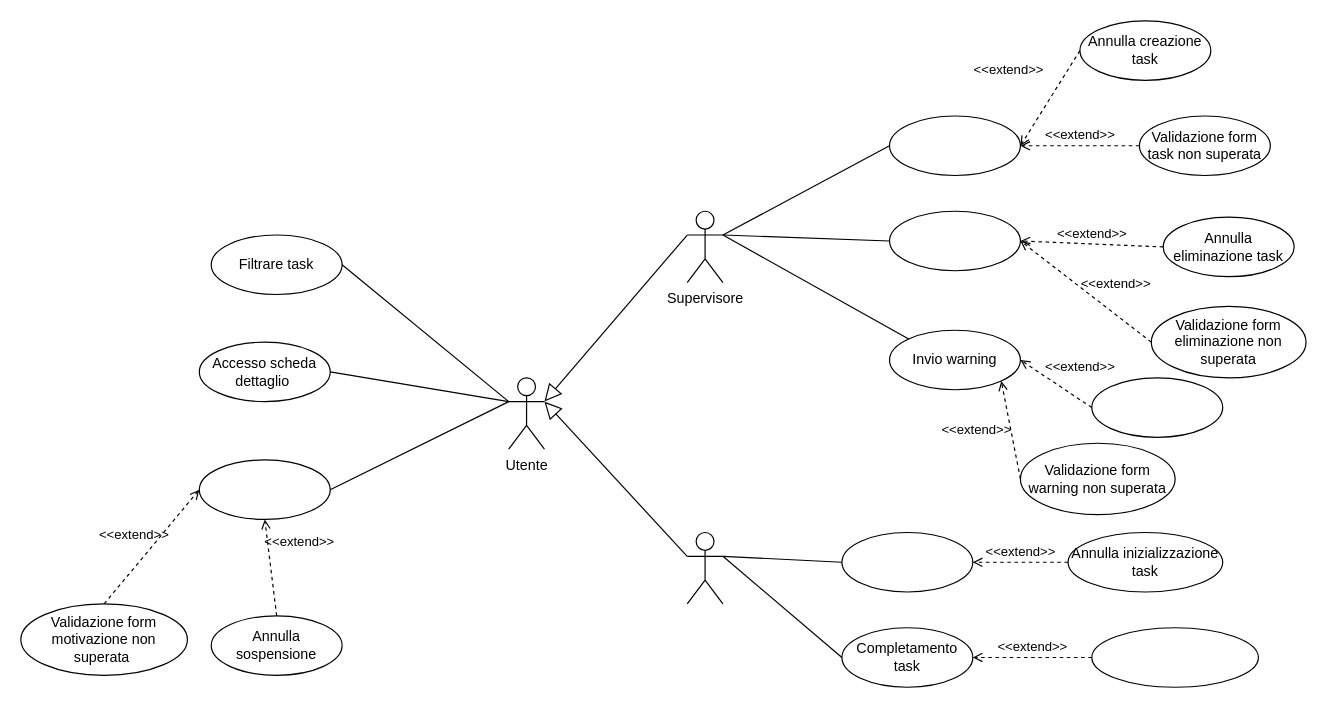
Image size: 1327x708. Some labels were removed from this diagram. Each missing label, with the centre of its shape:
Annulla completamento task: point (1174, 657)
Annullamento invio warning: point (1157, 407)
Creazione task: point (954, 145)
Dipendente: point (704, 567)
Eliminazione task: point (954, 240)
Inizializza task: point (907, 561)
Sospensione task: point (264, 489)
